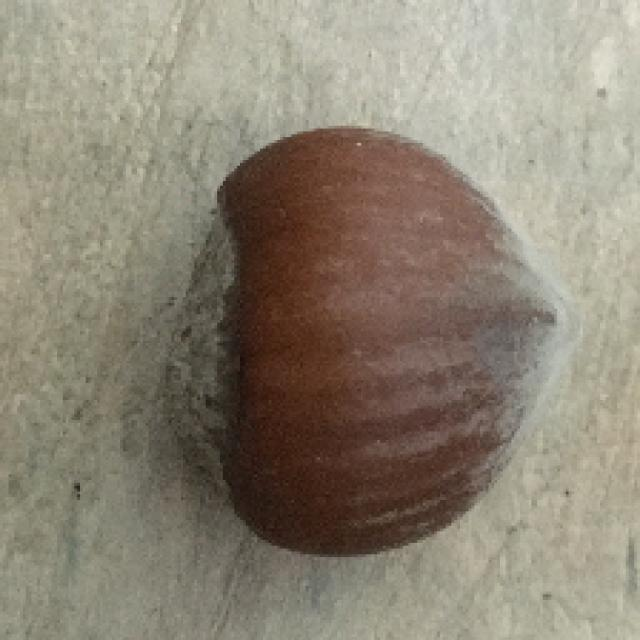qualityHazelnut: (160, 121, 570, 544)
